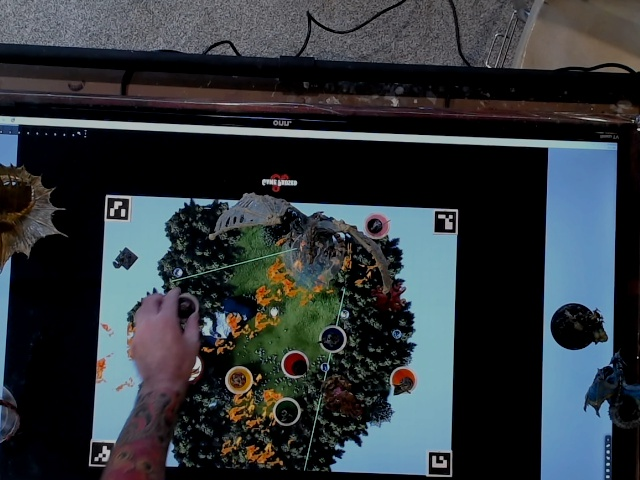blue: (316, 322, 351, 353)
green: (272, 392, 306, 425)
orange: (383, 363, 422, 398)
pink: (364, 212, 393, 240)
red: (282, 346, 314, 381)
violet: (166, 288, 204, 326)
yellow: (221, 363, 258, 397)
